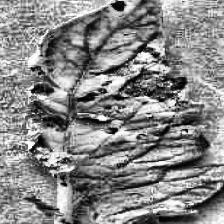disease: (25, 0, 224, 224)
